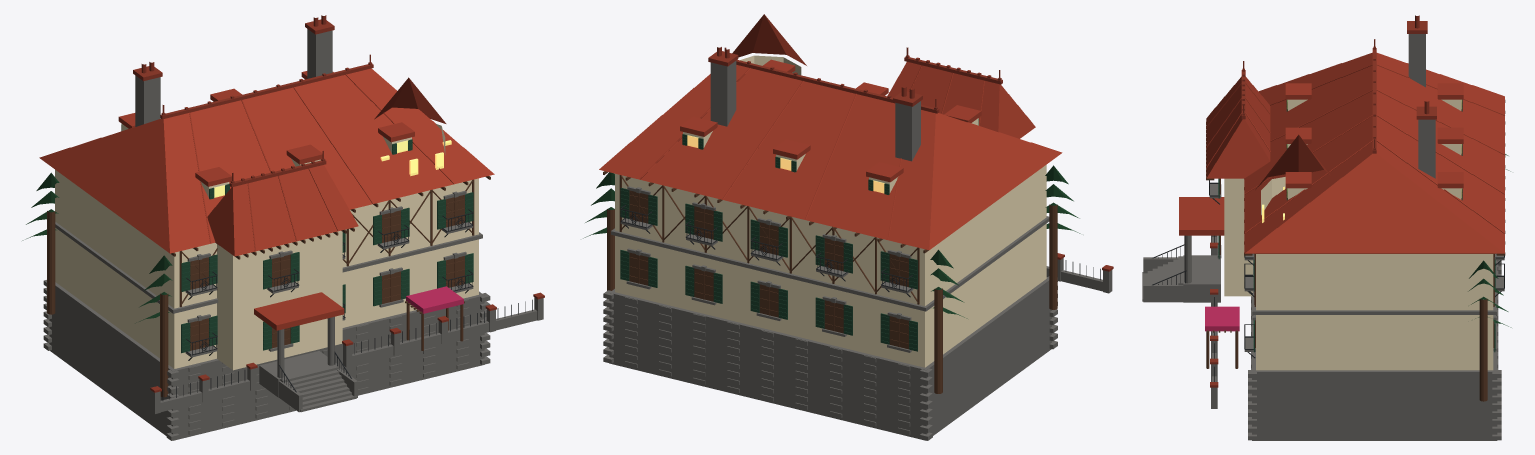
File: fv_tp_03_toa_giam_muc_domaine_bishopric_manor.glb
3 renders of one model, left to right at view 1: azimuth 30°, elevation 25°; view 2: azimuth 150°, elevation 25°; view 3: azimuth 270°, elevation 25°, orthographic. The views are drawn at different scales.
Visible parts, largest first — view 1: marseille_corrugated_roof_tiles, granite_foundation_and_stairs, stucco_facade_and_dormers, colombage_timber_and_eaves, pine_green_louvered_shutters, ridge_cresting_and_chimneys, wrought_iron_balconies_3d, pine_trees_and_garden_hedges, bougainvillea_pergola_clusters, warm_night_windows_ffb86c; view 2: marseille_corrugated_roof_tiles, granite_foundation_and_stairs, stucco_facade_and_dormers, colombage_timber_and_eaves, pine_green_louvered_shutters, ridge_cresting_and_chimneys, pine_trees_and_garden_hedges, wrought_iron_balconies_3d; view 3: marseille_corrugated_roof_tiles, stucco_facade_and_dormers, granite_foundation_and_stairs, colombage_timber_and_eaves, ridge_cresting_and_chimneys, bougainvillea_pergola_clusters, wrought_iron_balconies_3d, pine_green_louvered_shutters.
Part boxes in pixels (bbox=[...]): marseille_corrugated_roof_tiles: bbox=[39, 68, 494, 330]; granite_foundation_and_stairs: bbox=[43, 29, 543, 440]; stucco_facade_and_dormers: bbox=[55, 123, 478, 370]; colombage_timber_and_eaves: bbox=[47, 176, 490, 397]; pine_green_louvered_shutters: bbox=[121, 124, 473, 353]; ridge_cresting_and_chimneys: bbox=[133, 15, 544, 392]; wrought_iron_balconies_3d: bbox=[162, 209, 532, 400]; pine_trees_and_garden_hedges: bbox=[22, 172, 172, 323]; bougainvillea_pergola_clusters: bbox=[406, 286, 463, 313]; warm_night_windows_ffb86c: bbox=[214, 140, 451, 197]; marseille_corrugated_roof_tiles: bbox=[599, 14, 1062, 250]; granite_foundation_and_stairs: bbox=[603, 61, 1112, 440]; stucco_facade_and_dormers: bbox=[615, 55, 1046, 367]; colombage_timber_and_eaves: bbox=[603, 171, 1057, 393]; pine_green_louvered_shutters: bbox=[620, 119, 978, 351]; ridge_cresting_and_chimneys: bbox=[708, 47, 1113, 271]; pine_trees_and_garden_hedges: bbox=[583, 165, 1080, 318]; wrought_iron_balconies_3d: bbox=[620, 205, 1100, 297]; marseille_corrugated_roof_tiles: bbox=[1179, 52, 1504, 253]; stucco_facade_and_dormers: bbox=[1224, 99, 1493, 370]; granite_foundation_and_stairs: bbox=[1142, 34, 1504, 440]; colombage_timber_and_eaves: bbox=[1206, 100, 1505, 401]; ridge_cresting_and_chimneys: bbox=[1210, 15, 1436, 387]; bougainvillea_pergola_clusters: bbox=[1205, 306, 1239, 331]; wrought_iron_balconies_3d: bbox=[1152, 180, 1504, 381]; pine_green_louvered_shutters: bbox=[1218, 99, 1495, 352].
Size of the model in its own units: 27.92 by 20.73 by 23.59.
